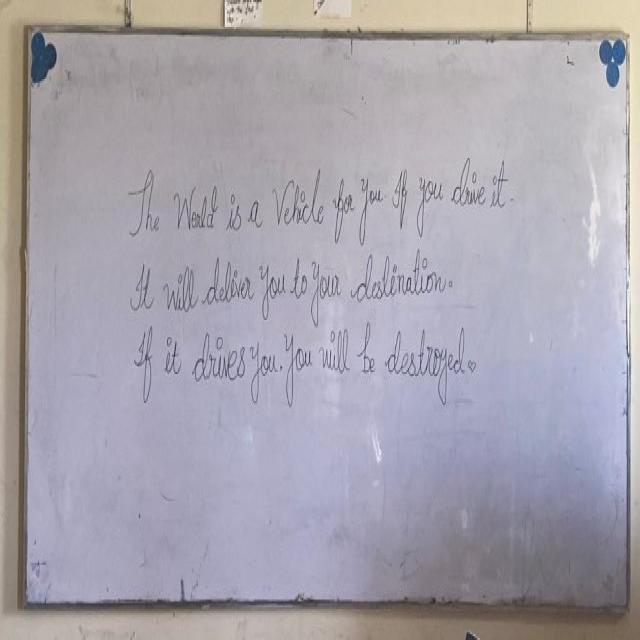White-board: (23, 30, 630, 611)
